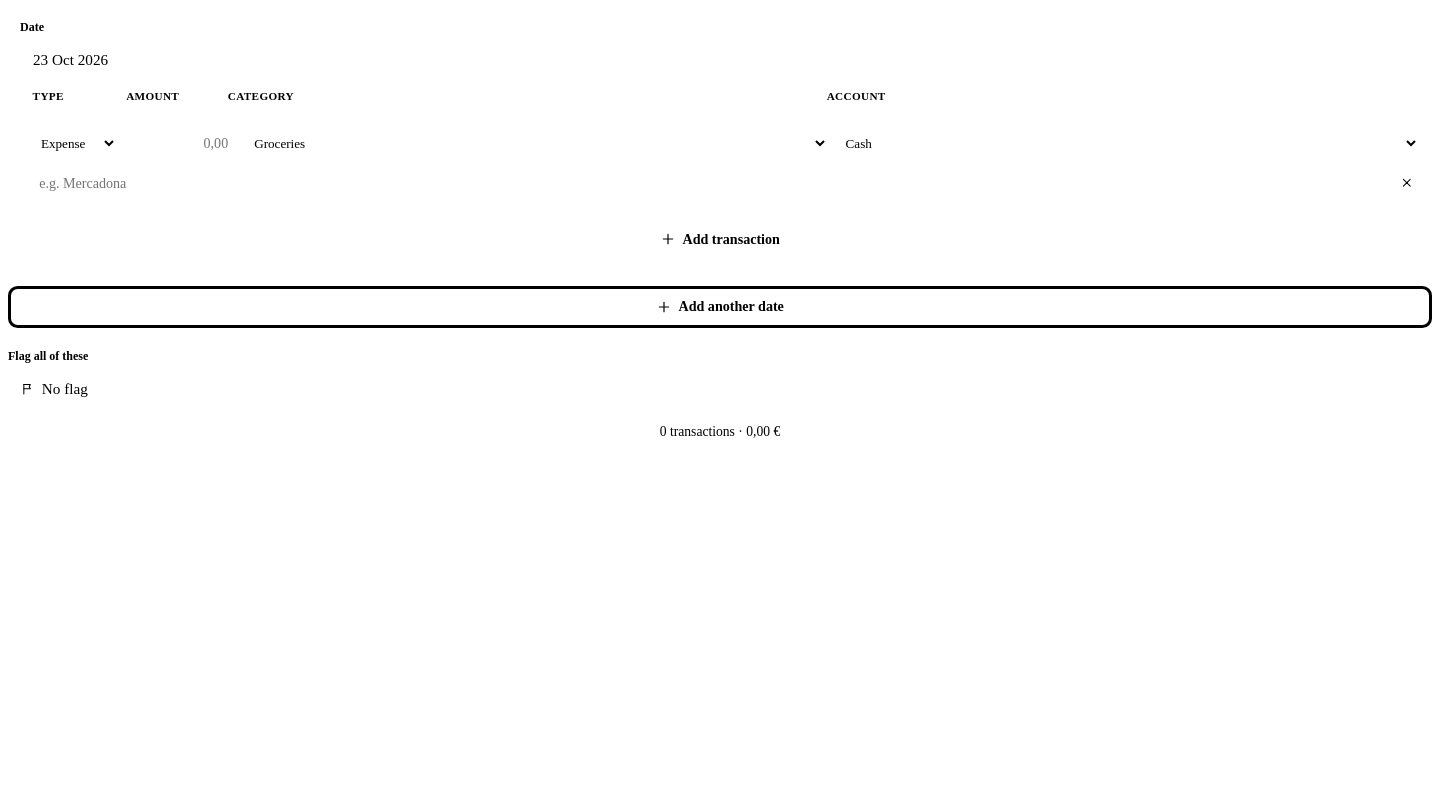
BatchTransactionForm — rows and dates › adding another date defaults to one day before the earliest batch present
The width and height of the screenshot is (1440, 810).
Type "2026-03-10" into the date field labelled "23 Oct 2026" at (71, 60), box [33,51,108,68]
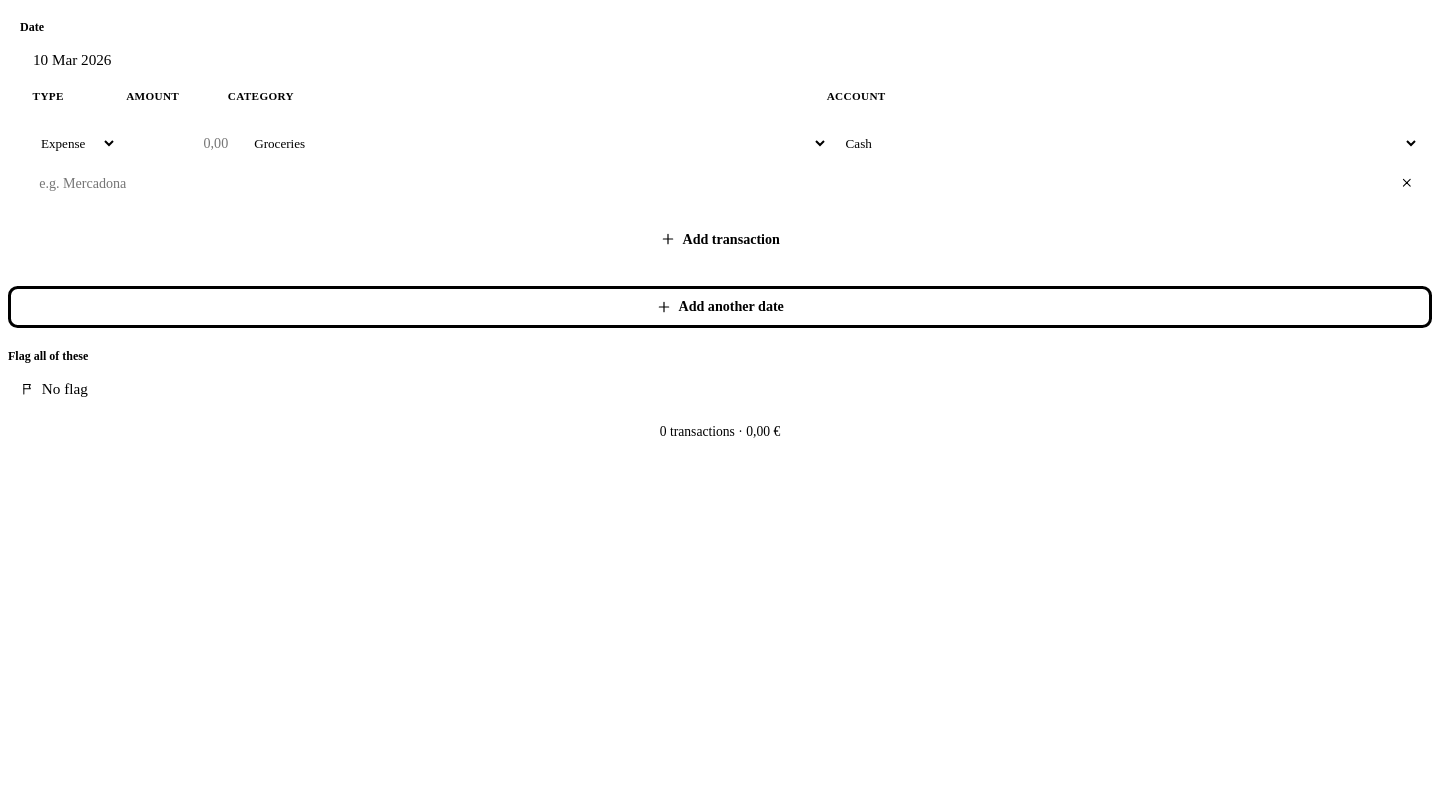
Click the button "Add another date" at (720, 307), box [8,286,1432,328]
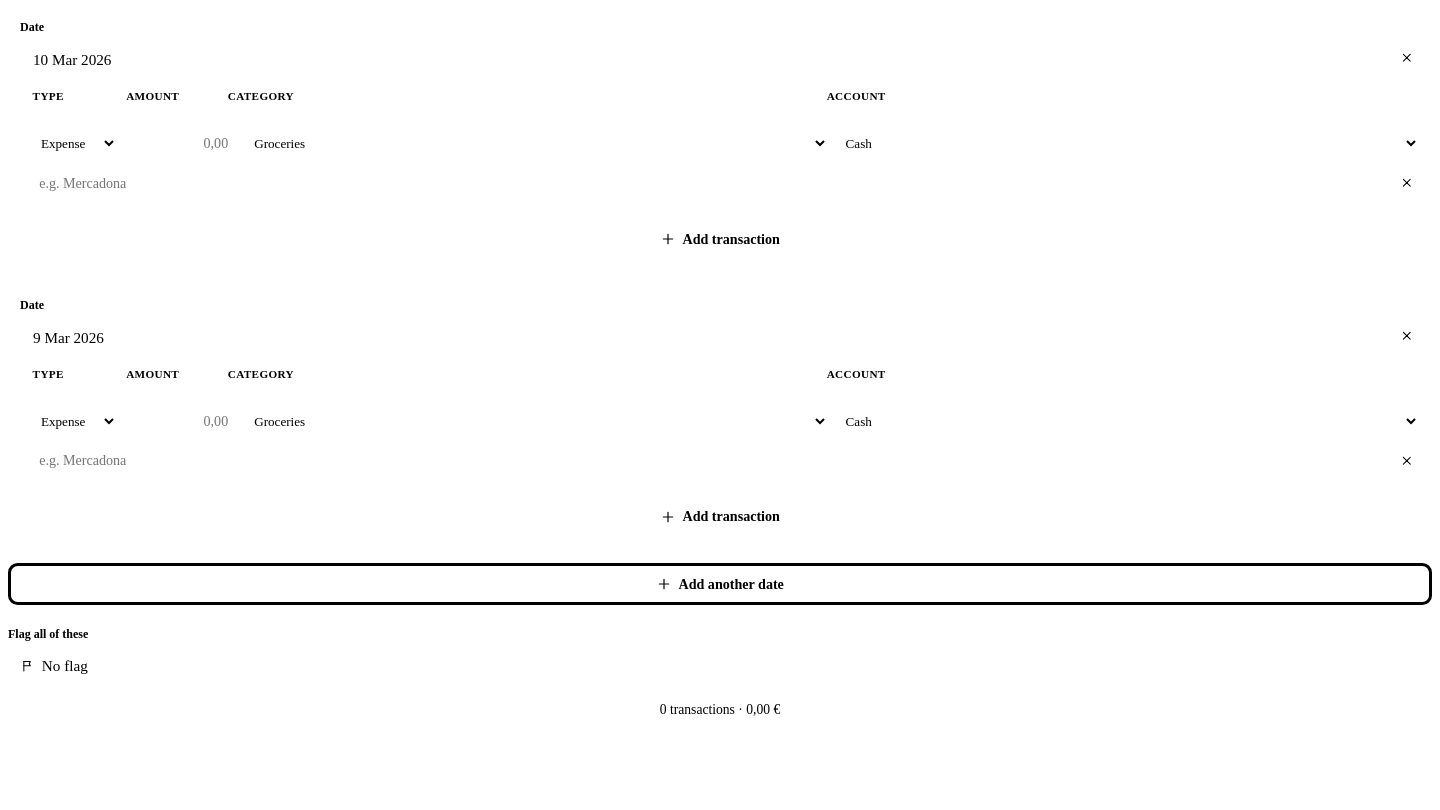
expect the number of buttons named "Remove this date" is 2: met, box [1394,45,1420,71]; [1394,323,1420,348]
